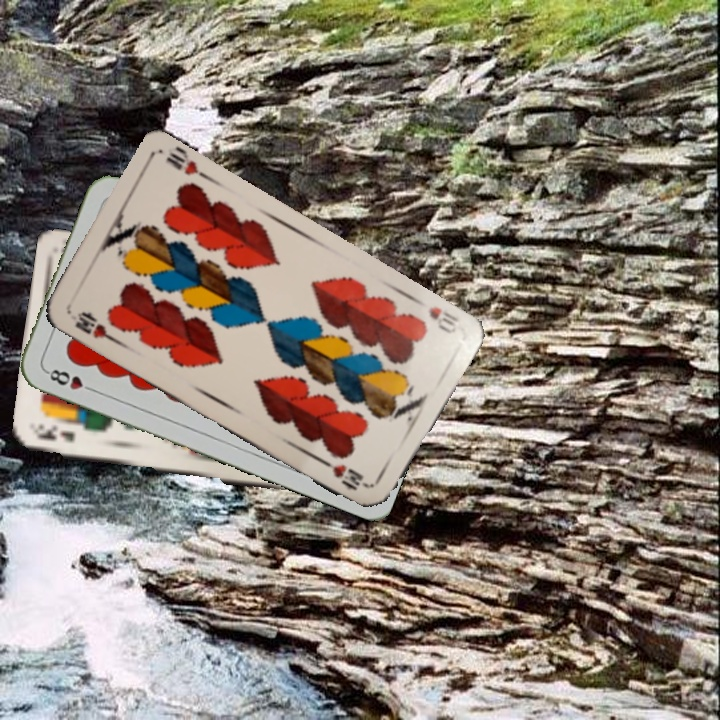EK: (33, 422, 77, 445)
H10: (410, 294, 462, 337), (71, 307, 119, 345)
H8: (42, 365, 98, 395)
